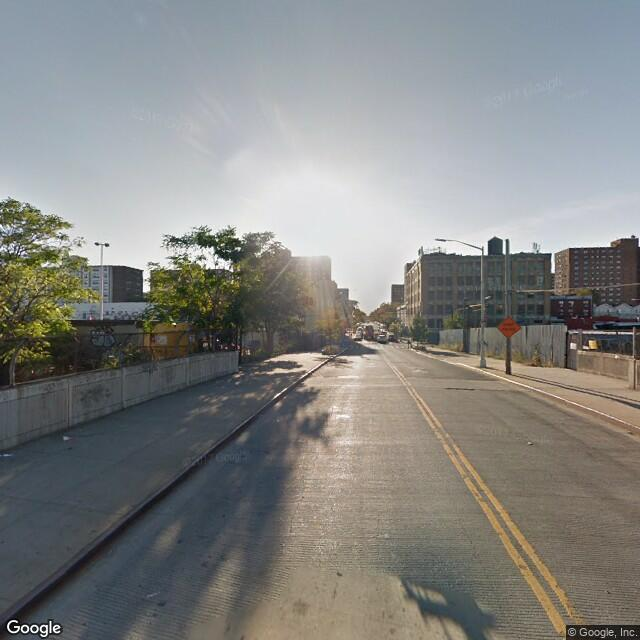litter: (526, 438, 535, 447), (3, 454, 13, 460), (61, 432, 67, 437)
